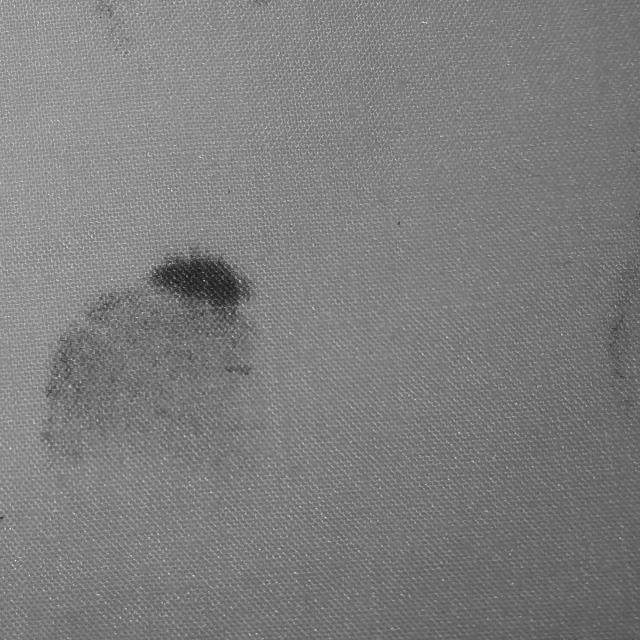Stain: (45, 254, 257, 479), (605, 261, 640, 428), (91, 0, 133, 54)
